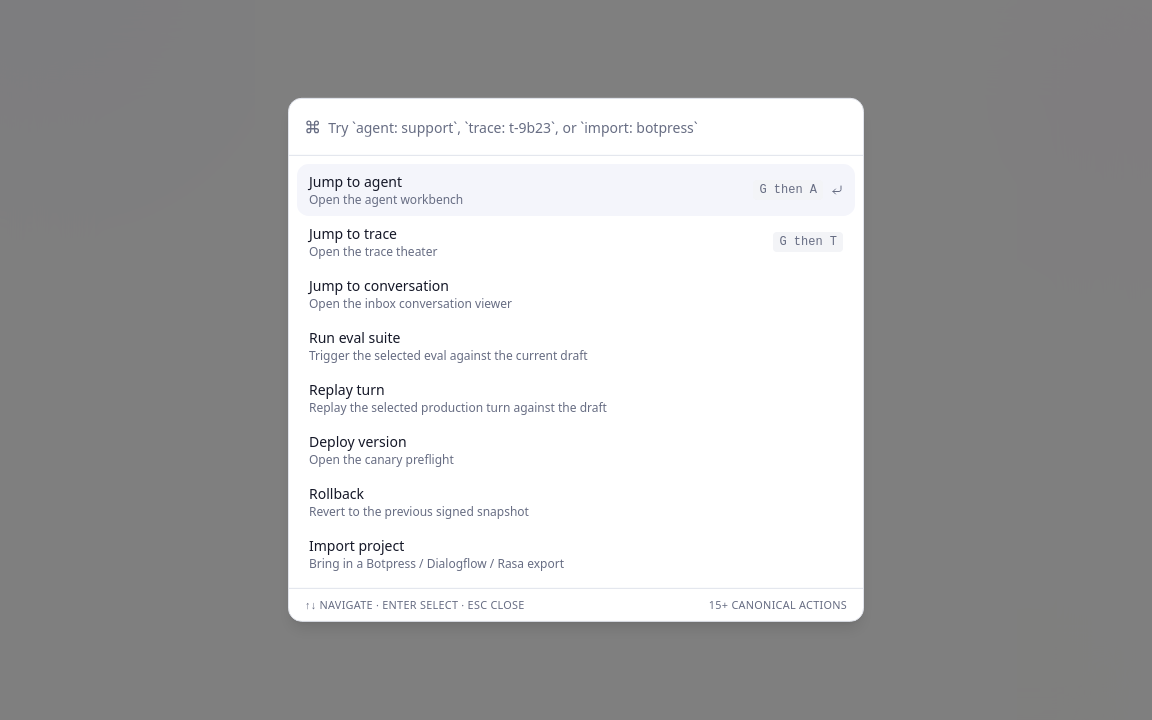
Scenario: CommandPalette › shows the empty state when nothing matches
The width and height of the screenshot is (1152, 720).
Type "zzznotreal" into the field with test id "command-input" at (588, 127), box [328,111,847,143]
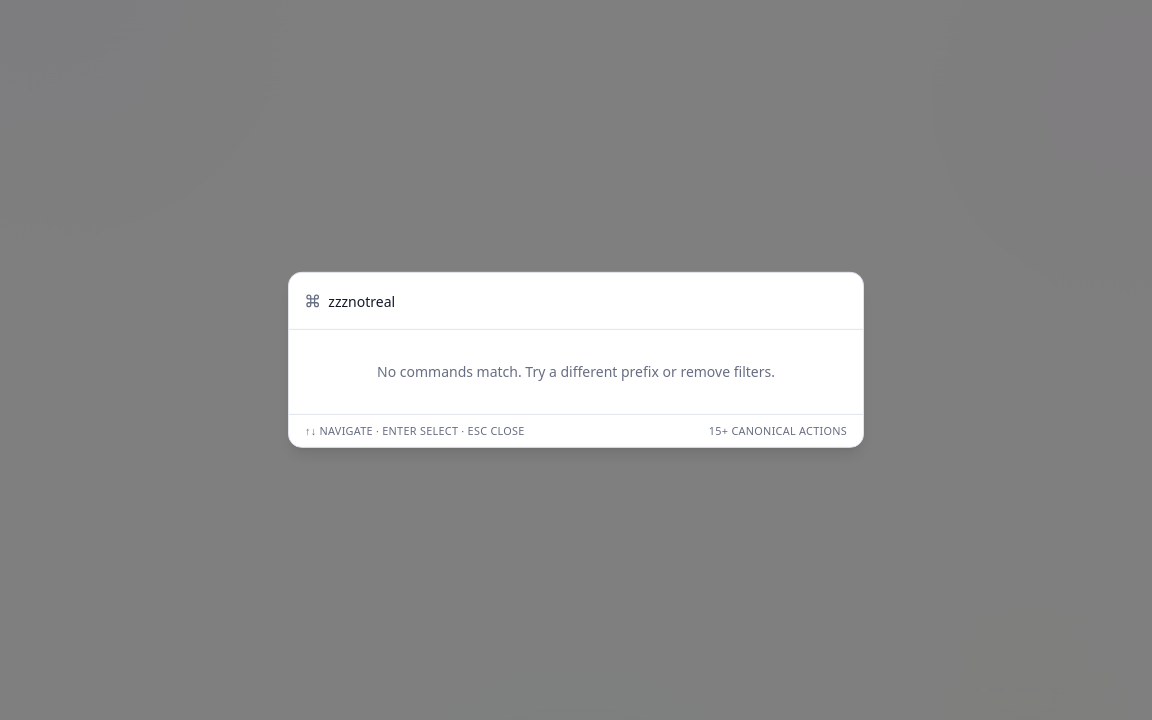
Expected: the list item "No commands match. Try a different prefix or remove filters." is shown, [377,362,775,381]
